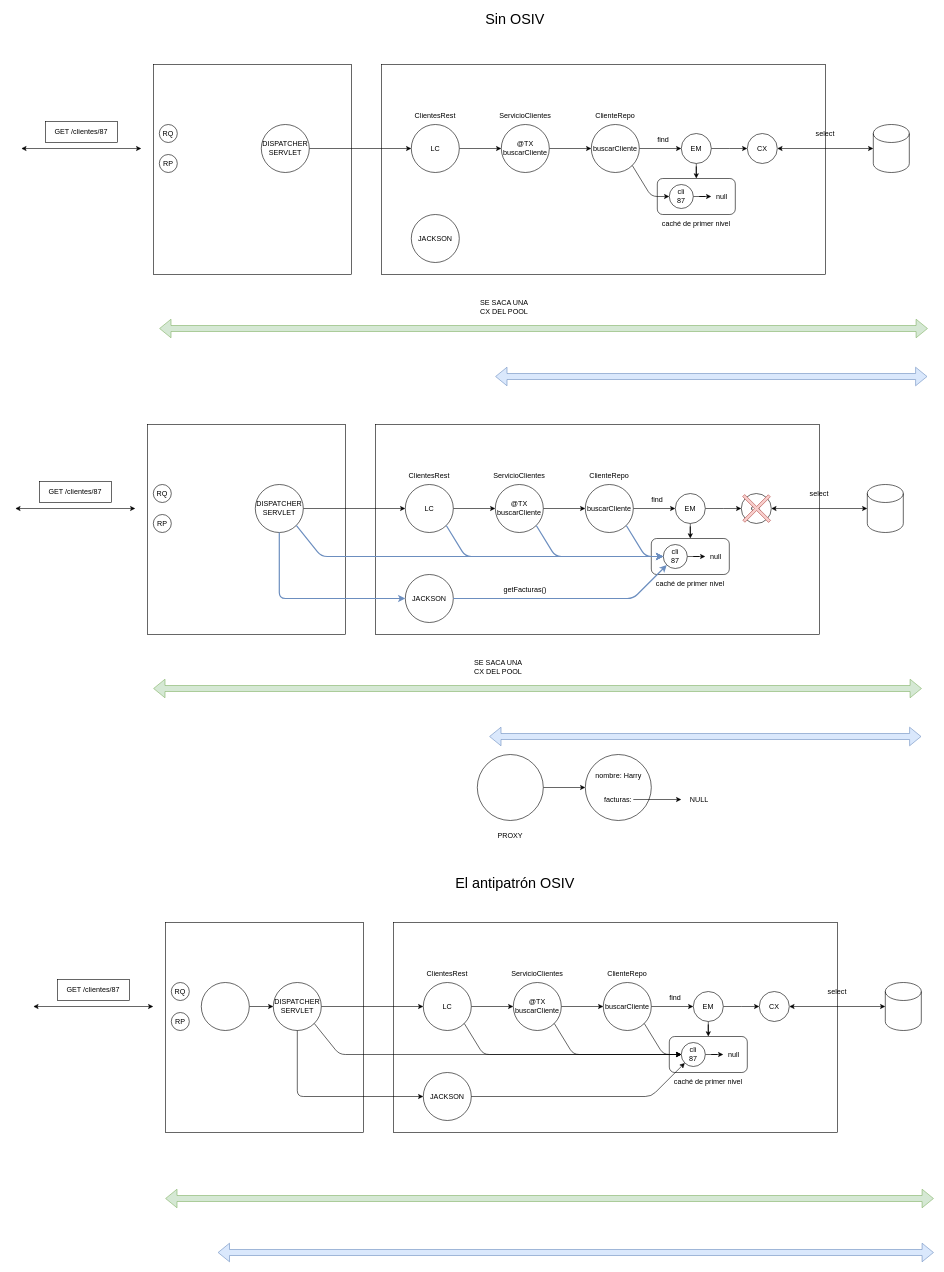
Image size: 944x1272. Some labels were removed from this diagram. The shapes that lost their labels are listed below. From the top down, each one's centre as x and y in pixels, then its label:
At pixel 510 787: "getNombre() setNombre() getFacturas()".
At pixel 225 1006: "OSIV".
